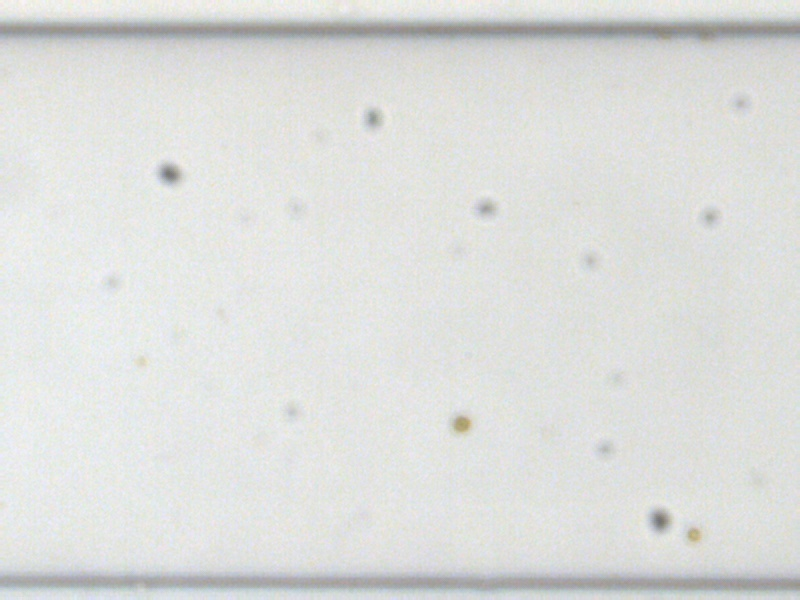Chlorella: (450, 413, 471, 433), (684, 527, 704, 540)
